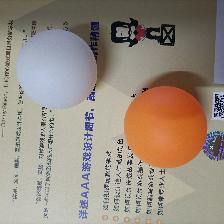WhiteBall: (16, 29, 97, 110)
YellowBall: (122, 85, 207, 169)
